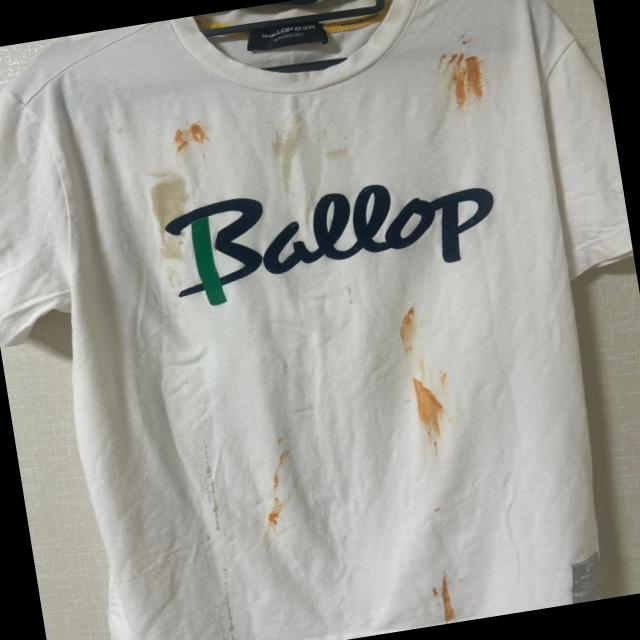stain: (143, 164, 197, 274), (402, 360, 465, 452), (432, 36, 506, 114), (254, 442, 308, 533), (207, 563, 256, 640), (263, 114, 305, 198), (195, 441, 232, 536), (382, 304, 437, 366), (419, 570, 465, 627), (169, 117, 218, 156), (448, 20, 491, 63), (310, 137, 356, 173)
